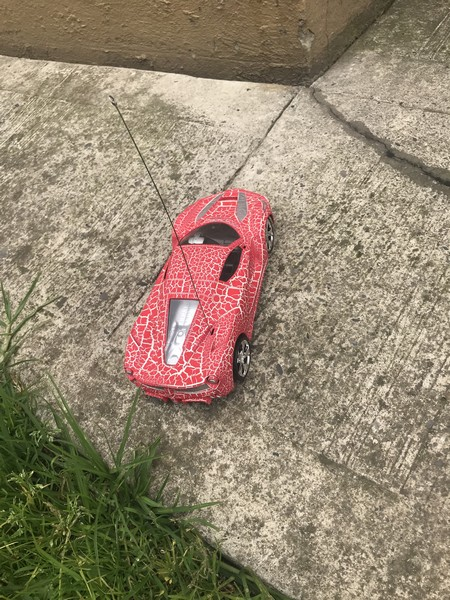RC: (123, 187, 277, 405)
